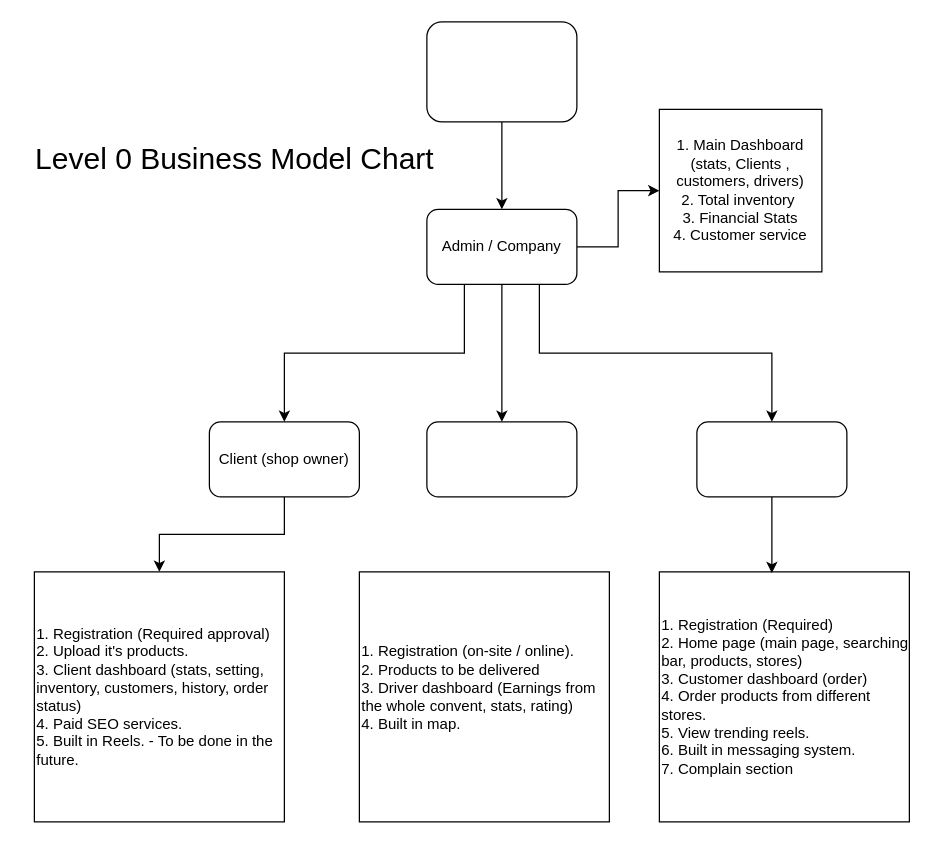
Image size: 931x844. Some labels were removed from this diagram. The shapes that lost their labels are listed below. From the top down, each one's centre as x and y in pixels, then its label:
At (x=501, y=71): "E-Commerce Application".
At (x=501, y=459): "Driver".
At (x=771, y=459): "Customer".
